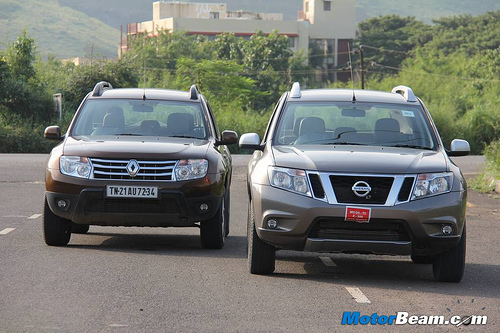number_plate: (103, 182, 164, 202)
